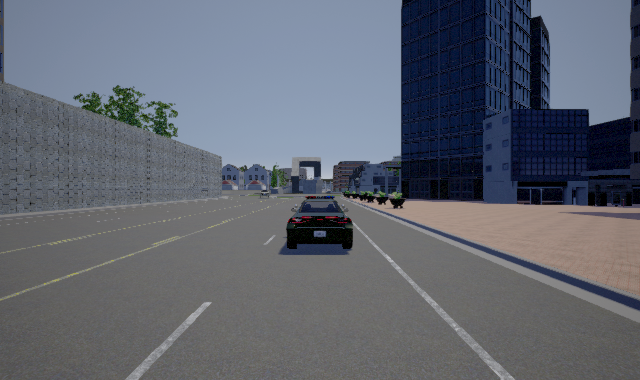vehicle: (286, 196, 353, 249)
